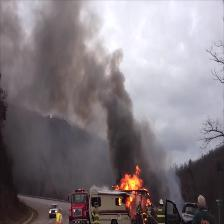fire: (119, 174, 143, 191)
smoke: (37, 1, 89, 124), (95, 65, 137, 170)
